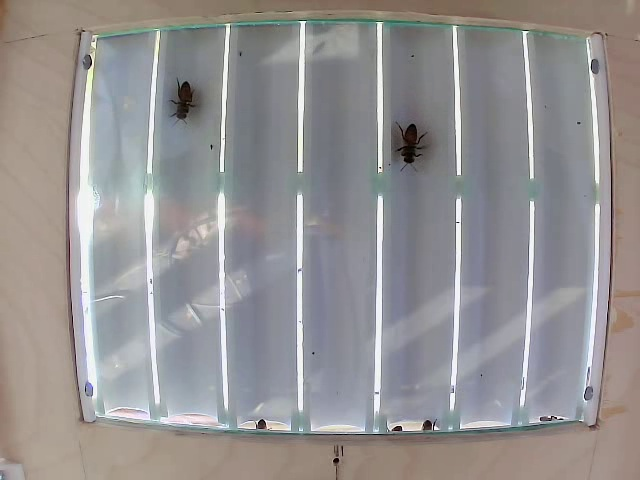bee: (395, 118, 432, 186), (165, 77, 207, 131)
